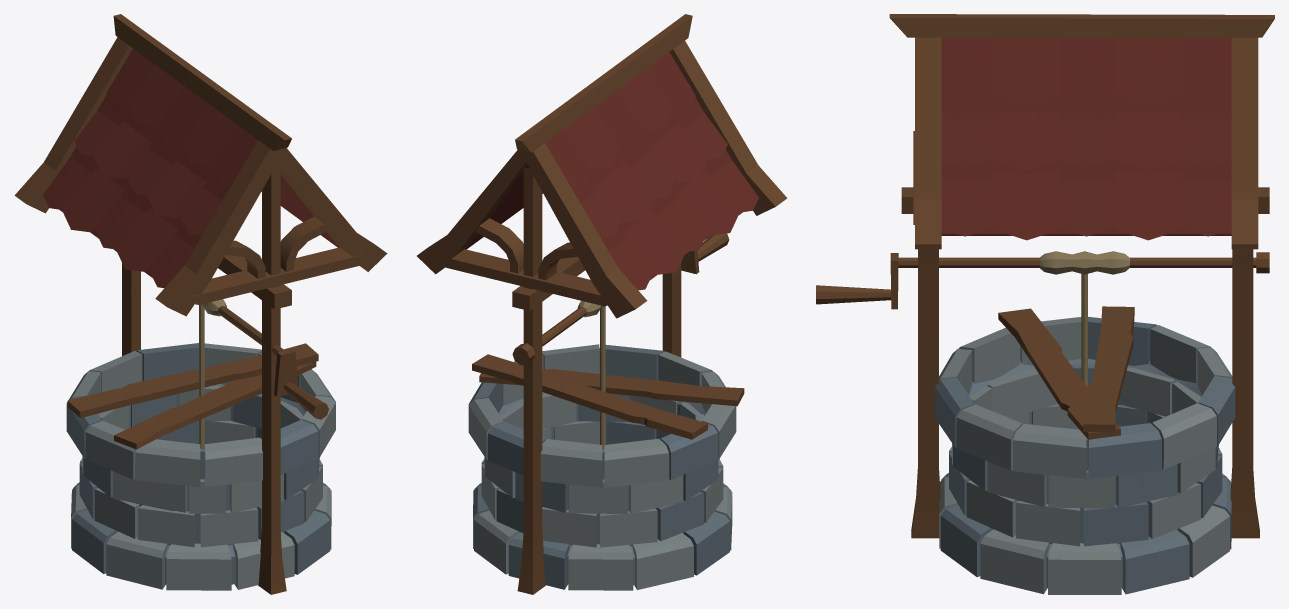
Rendered from Well.glb.
3 renders of one model, left to right at view 1: azimuth 30°, elevation 25°; view 2: azimuth 150°, elevation 25°; view 3: azimuth 270°, elevation 25°, orthographic. The views are drawn at different scales.
Parts seen in each view (by area): view 1: Well; view 2: Well; view 3: Well.
Boxes of the visible parts, <box> form: Well: <box>14,14,387,594</box>; Well: <box>417,14,787,594</box>; Well: <box>816,14,1274,594</box>.
Bounding box in the file's own units: 0.6664 × 1.25 × 1.
Materials: 1 (1 with a texture image).
